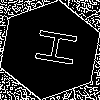H: (25, 25, 78, 68)
